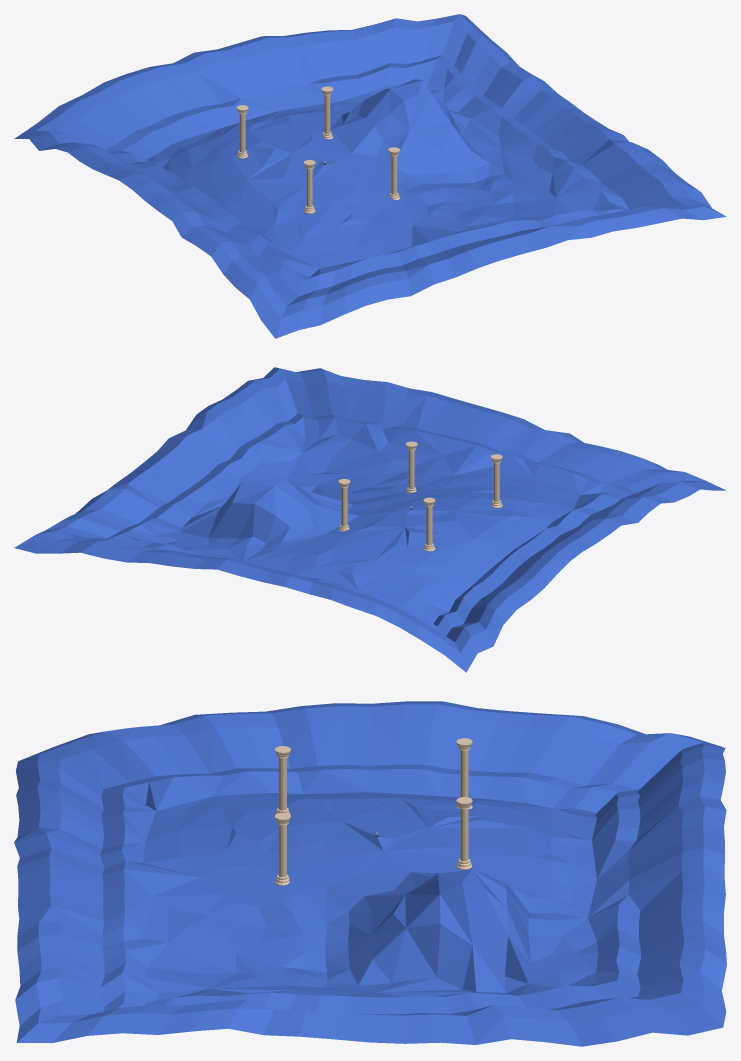
Rendered from PrototypeBGObj.FBX.
The picture shows the model from 3 angles, top to bottom: view 1: azimuth 30°, elevation 25°; view 2: azimuth 150°, elevation 25°; view 3: azimuth 270°, elevation 25°; orthographic projection. The views are drawn at different scales.
Parts seen in each view (by area): view 1: Plane001; view 2: Plane001; view 3: Plane001.
Part boxes in pixels (<box>): Plane001: <box>14,14,726,338</box>; Plane001: <box>14,367,726,672</box>; Plane001: <box>14,701,726,1046</box>.
Bounding box in the file's own units: 3160 × 547 × 3160.
